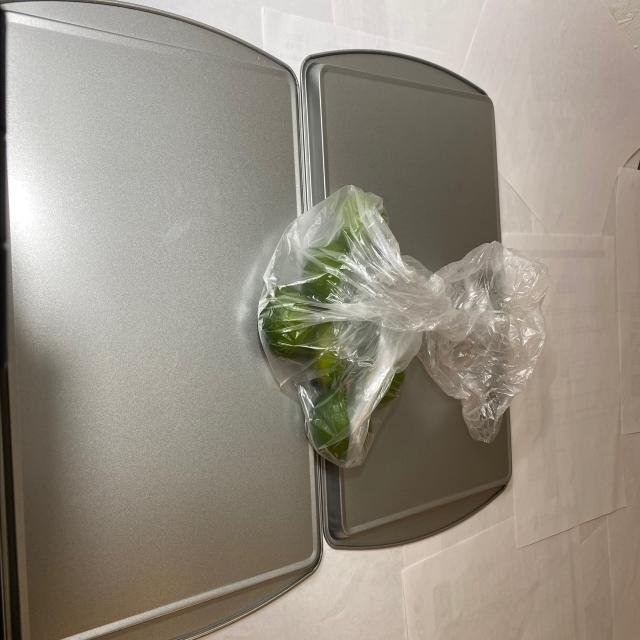lemon: (258, 188, 402, 467)
